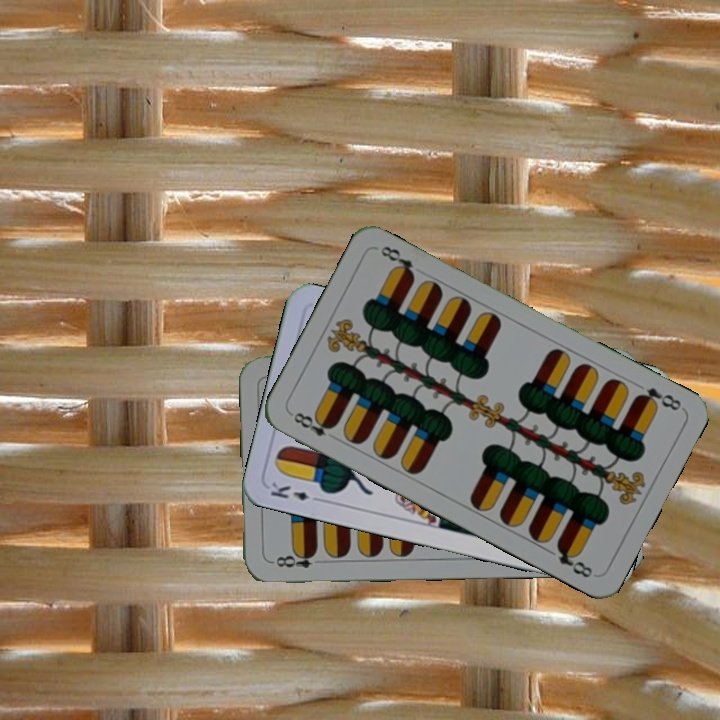E8: (631, 383, 684, 414), (287, 408, 338, 440), (268, 547, 319, 571)
EK: (266, 477, 325, 505)
